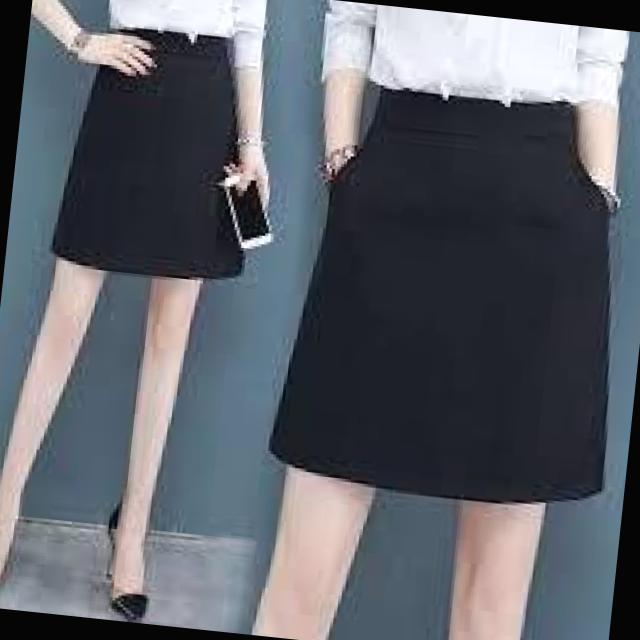skirt: (263, 73, 640, 513), (44, 5, 286, 291)
